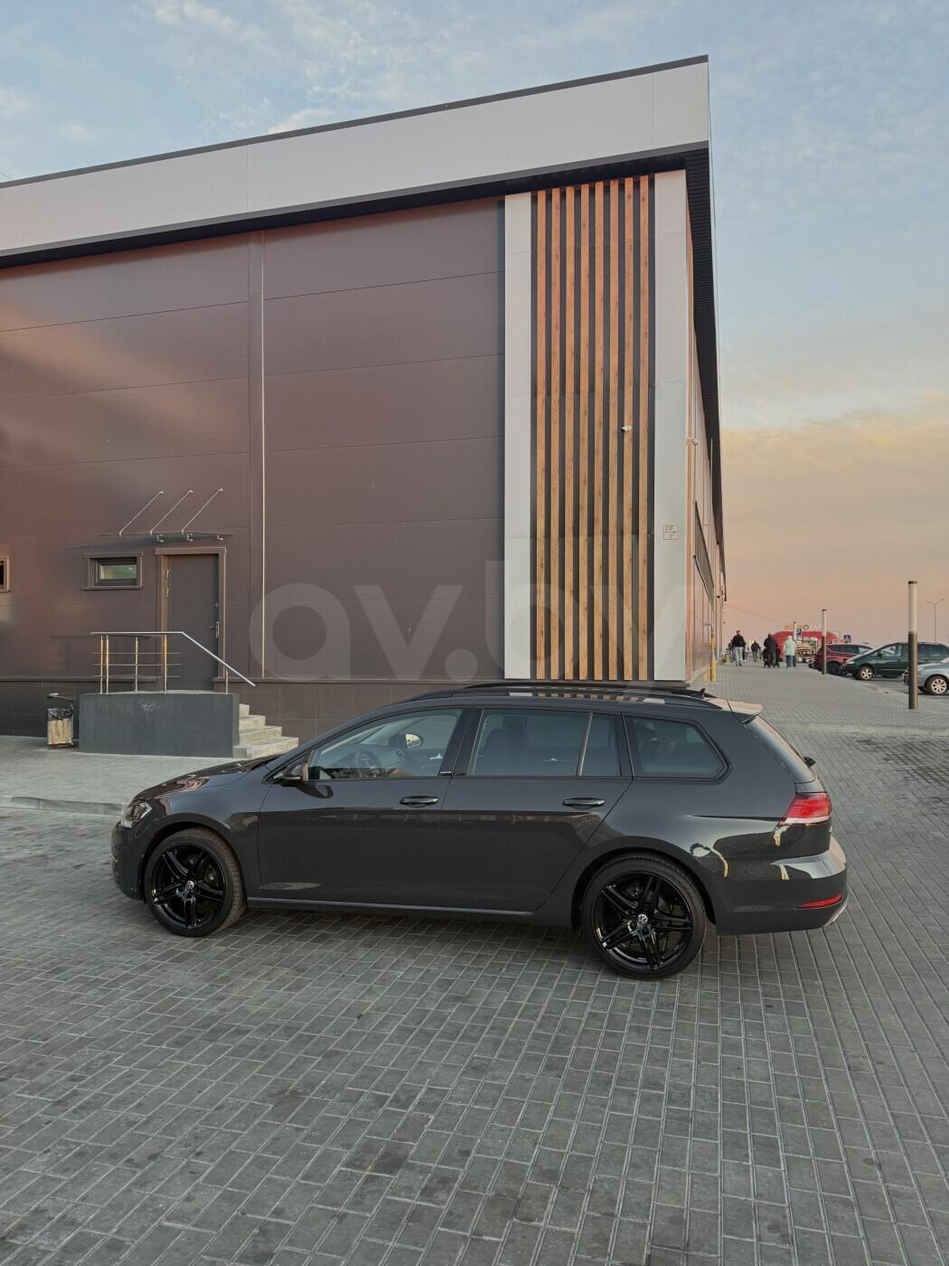Golf_2017-2021: (111, 683, 852, 993)
